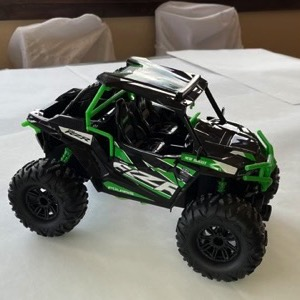polaris: (7, 55, 283, 285)
